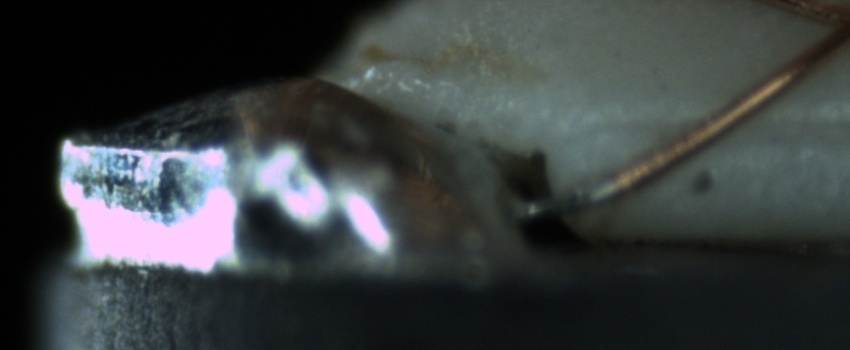CL: (803, 0, 850, 61)
DL: (611, 87, 846, 164)
TS: (521, 174, 616, 219)
